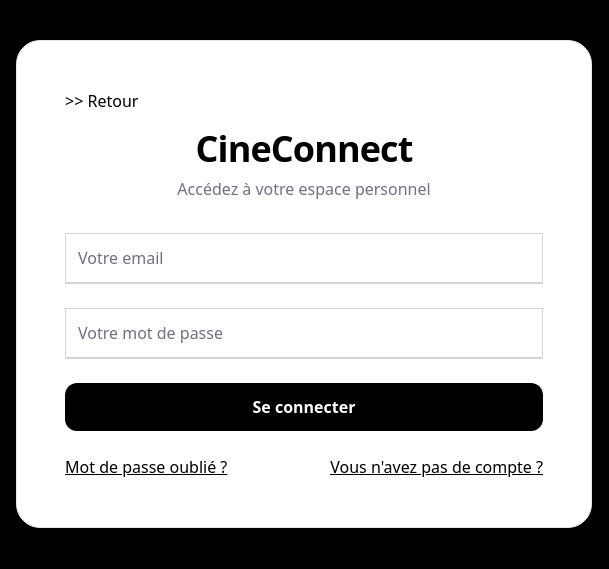
Test case: Login › devrait afficher un message d'erreur si login échoue
In the field with placeholder "Votre email": (304, 258) [65,233,543,284], type "john@test.com"
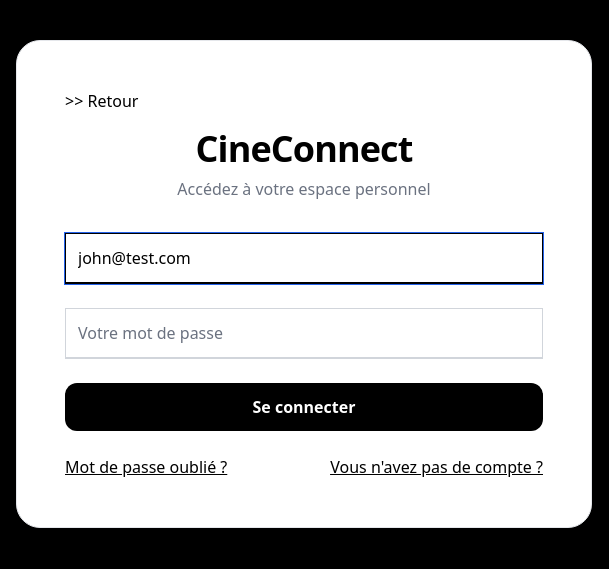
In the password field with placeholder "Votre mot de passe": (304, 334) [65,308,543,359], type "mauvais"
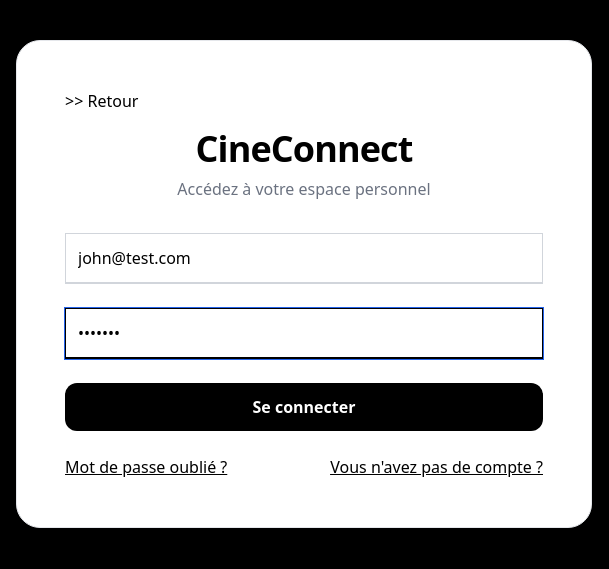
Click the button "Se connecter": (304, 407) [65,383,543,431]
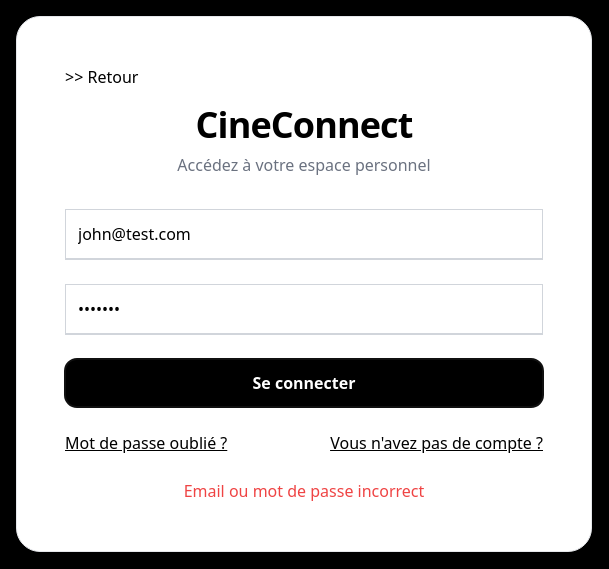
Check: the text "Email ou mot de passe incorrect" is shown, box [184,480,424,502]
